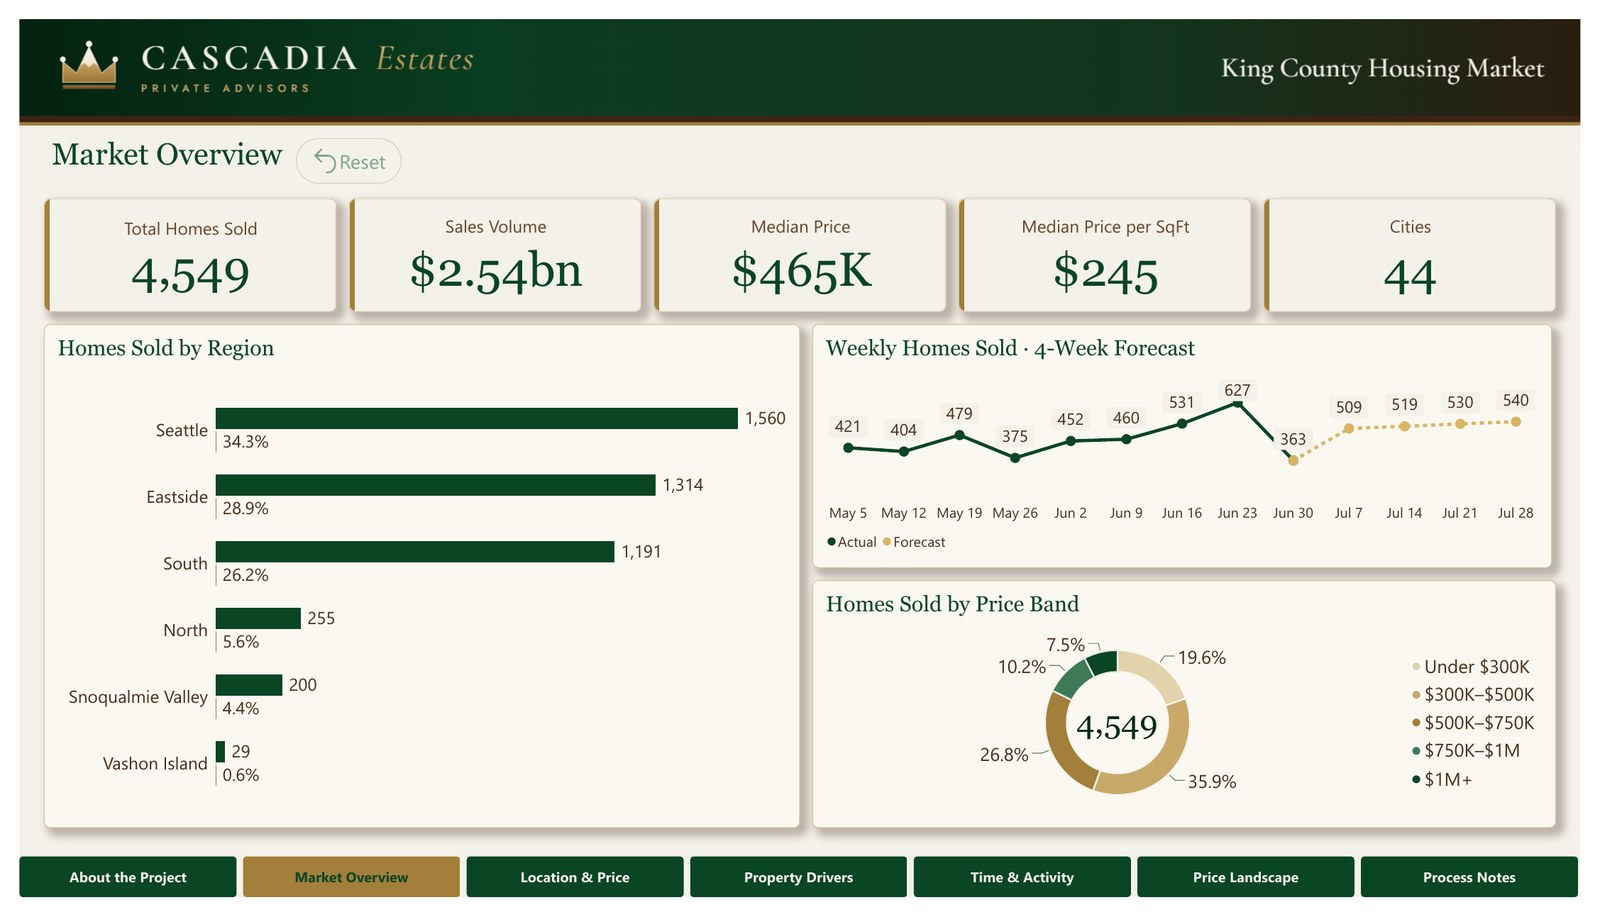

This screenshot's page, from the dashboard's own definition file:
{"tool":"powerbi","page":{"name":"Market Overview","canvas":[1920,1080],"ordinal":1},"visuals":[{"type":"image","box":[0,0,1920,130],"z":0},{"type":"pageNavigator","box":[0,1030,1920,50],"z":1000},{"type":"textbox","box":[30,145,375,70],"z":2000},{"type":"cardVisual","fields":{"Data":["!Measures.Total Sales"]},"box":[30,220,360,140],"z":3000},{"type":"cardVisual","fields":{"Data":["!Measures.Cities Count"]},"box":[1530,220,360,140],"z":4000},{"type":"cardVisual","fields":{"Data":["!Measures.Median Price per SqFt"]},"box":[1155,220,360,140],"z":5000},{"type":"cardVisual","fields":{"Data":["!Measures.Median Price"]},"box":[780,220,360,140],"z":6000},{"type":"cardVisual","fields":{"Data":["!Measures.Sales Volume Label"]},"box":[405,220,360,140],"z":7000},{"type":"clusteredBarChart","title":"Homes Sold by Region","fields":{"Category":["Dim_Location.Location Hierarchy.region","Dim_Location.Location Hierarchy.city"],"Y":["!Measures.Homes Sold","!Measures.Market Share %"]},"box":[30,375,930,620],"z":8000},{"type":"lineChart","title":"Weekly Homes Sold · 4-Week Forecast","fields":{"Category":["Dim_Date.Week Short"],"Y":["Dim_Date.Weekly Actual","Dim_Date.Weekly Forecast"]},"box":[975,375,910,300],"z":9000},{"type":"donutChart","title":"Homes Sold by Price Band","fields":{"Category":["Sales.price_band"],"Y":["!Measures.Homes Sold"]},"box":[975,690,915,305],"z":10000},{"type":"actionButton","title":"Reset filters","box":[340,146,130,56],"z":10001}]}

Visuals, with their boxes in screenshot pixels (x1, y1, x2, y2), scaled from the page's 1920x1080 canvas onto the 1600x917 screenshot:
image: (x1=0, y1=0, x2=1599, y2=110)
pageNavigator: (x1=0, y1=875, x2=1599, y2=916)
textbox: (x1=25, y1=123, x2=338, y2=183)
cardVisual - !Measures.Total Sales: (x1=25, y1=187, x2=325, y2=306)
cardVisual - !Measures.Cities Count: (x1=1275, y1=187, x2=1575, y2=306)
cardVisual - !Measures.Median Price per SqFt: (x1=962, y1=187, x2=1262, y2=306)
cardVisual - !Measures.Median Price: (x1=650, y1=187, x2=950, y2=306)
cardVisual - !Measures.Sales Volume Label: (x1=338, y1=187, x2=638, y2=306)
"Homes Sold by Region" clusteredBarChart: (x1=25, y1=318, x2=800, y2=845)
"Weekly Homes Sold · 4-Week Forecast" lineChart: (x1=812, y1=318, x2=1571, y2=573)
"Homes Sold by Price Band" donutChart: (x1=812, y1=586, x2=1575, y2=845)
"Reset filters" actionButton: (x1=283, y1=124, x2=392, y2=172)
